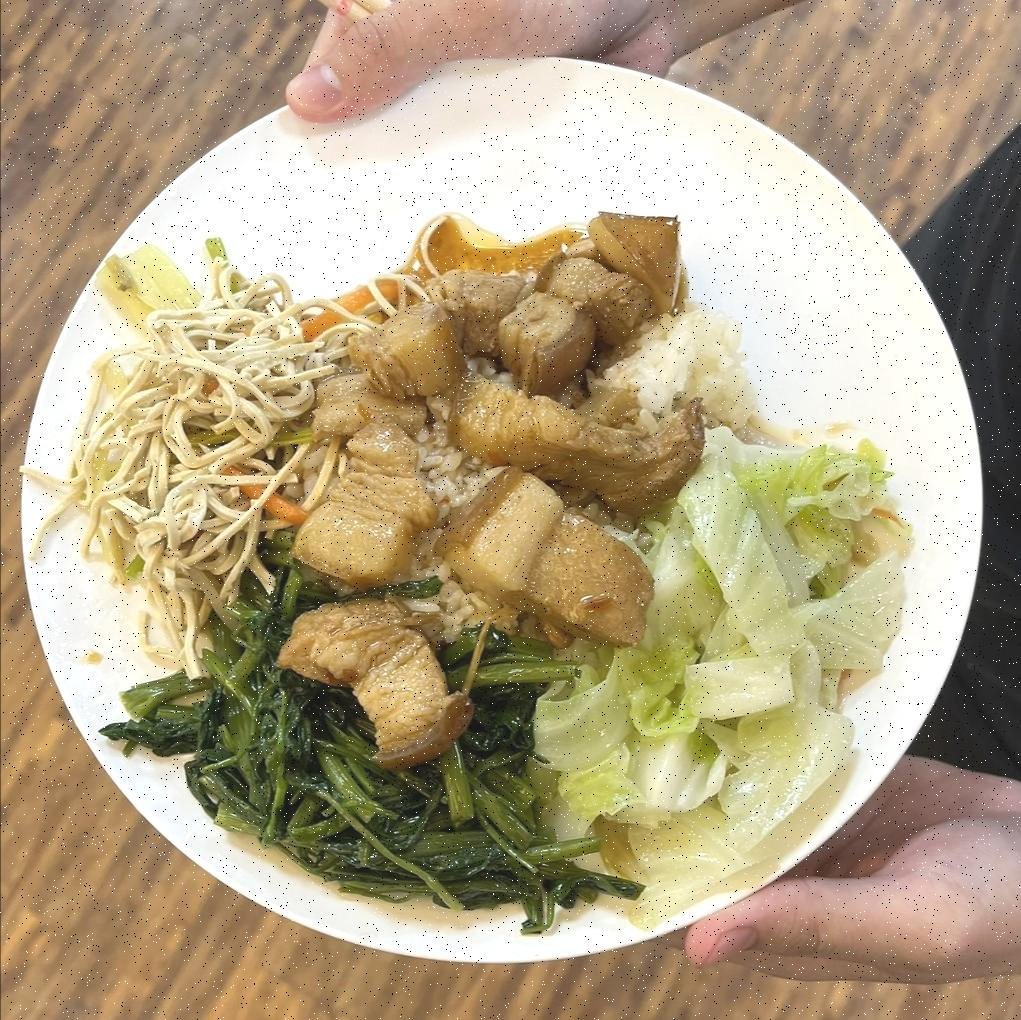braised pork: (285, 205, 700, 743)
plate: (26, 55, 990, 966)
side dish: (545, 428, 910, 902), (130, 588, 550, 910), (62, 253, 316, 618)
white rice: (318, 300, 748, 646)
